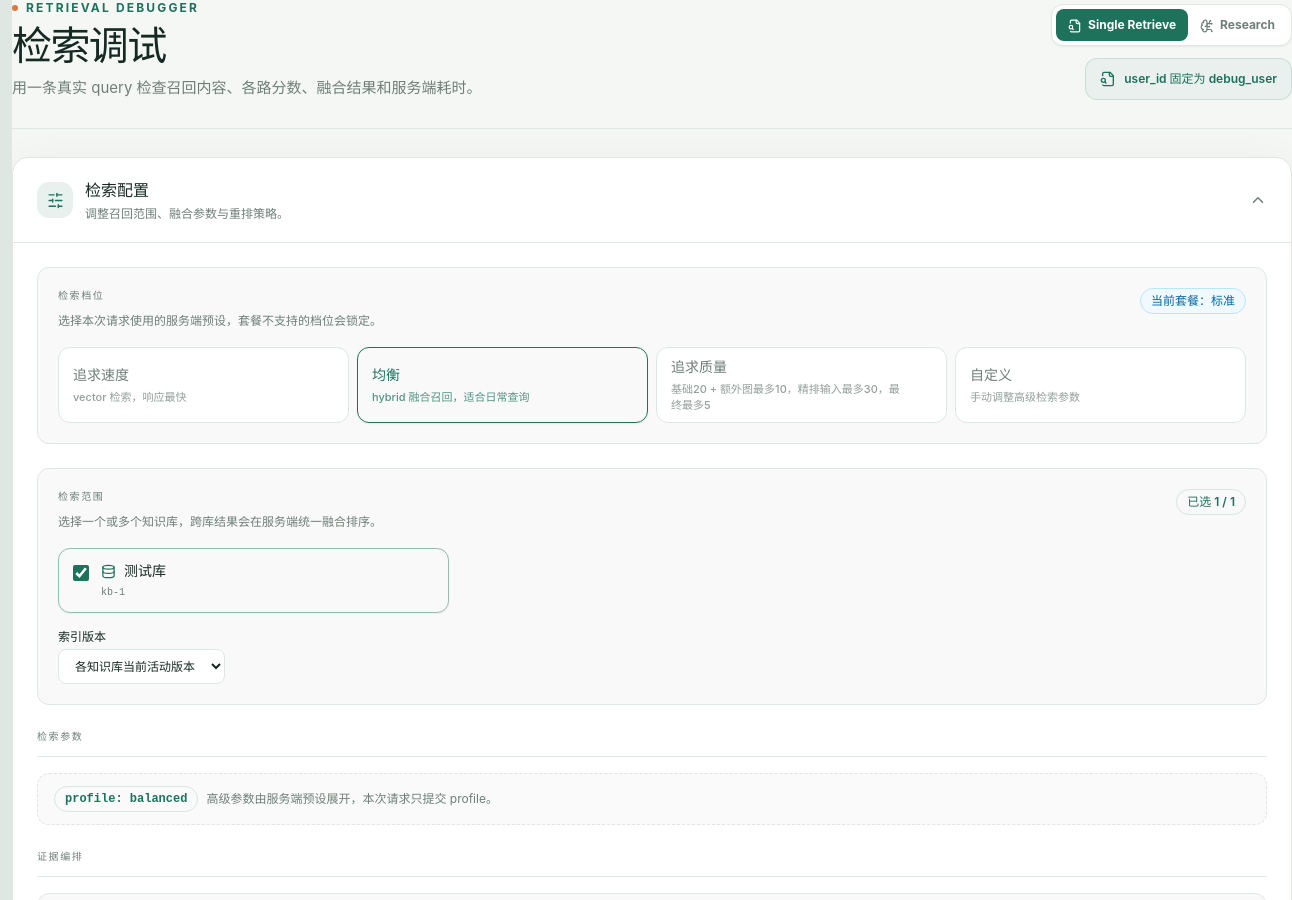
Test case: RetrievePage research mode › blocks Research for a non-Pro plan without invoking the endpoint
The image size is (1292, 900).
Expected: the checkbox named "选择 测试库" is shown, 73,565 -> 89,581
Click the tab "Research" at (1238, 25), box 1188,9 -> 1287,41
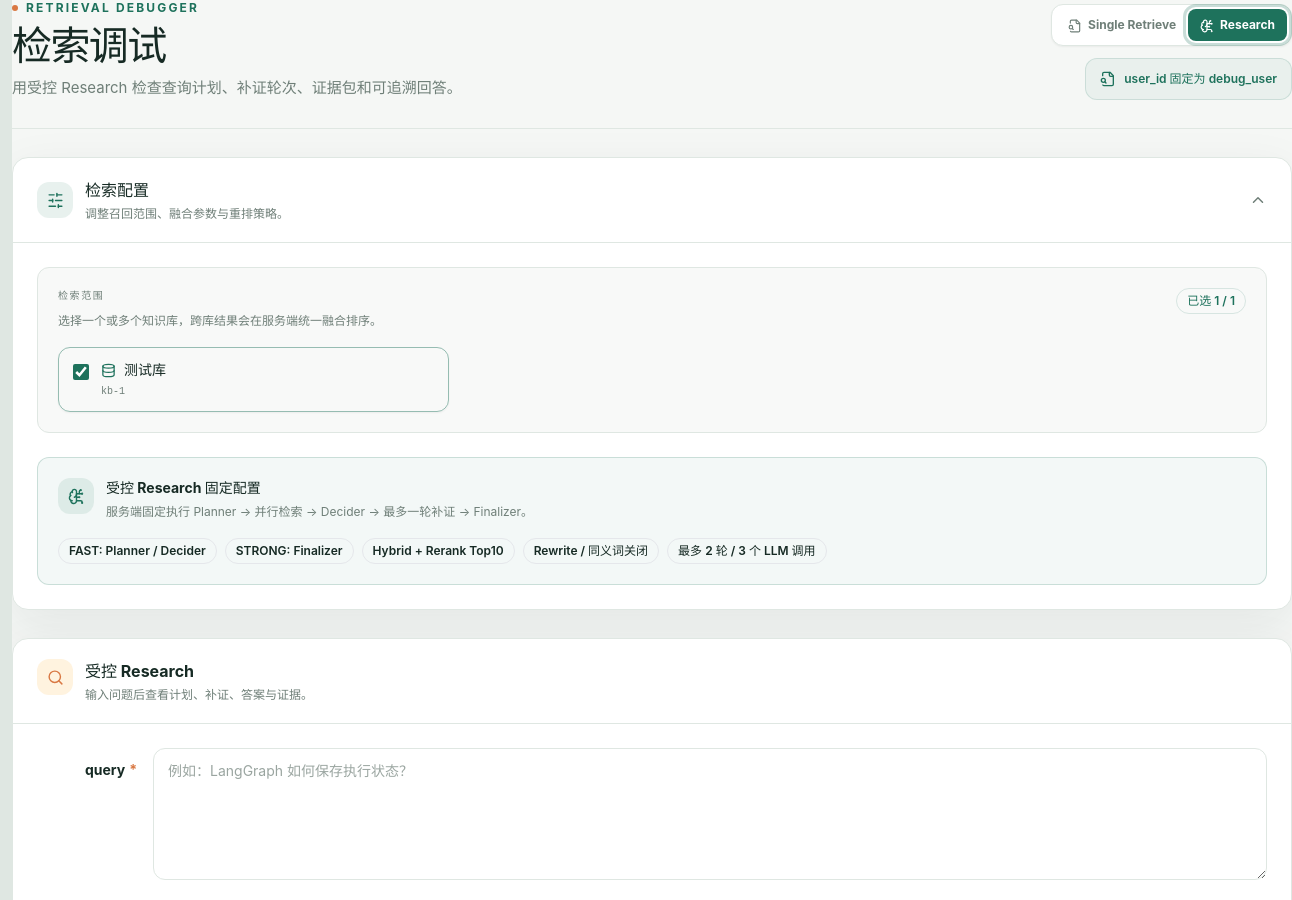
Type "first question" into the text box with placeholder "例如：LangGraph 如何保存执行状态？" at (710, 814), box 153,748 -> 1267,880
(page scrolled)
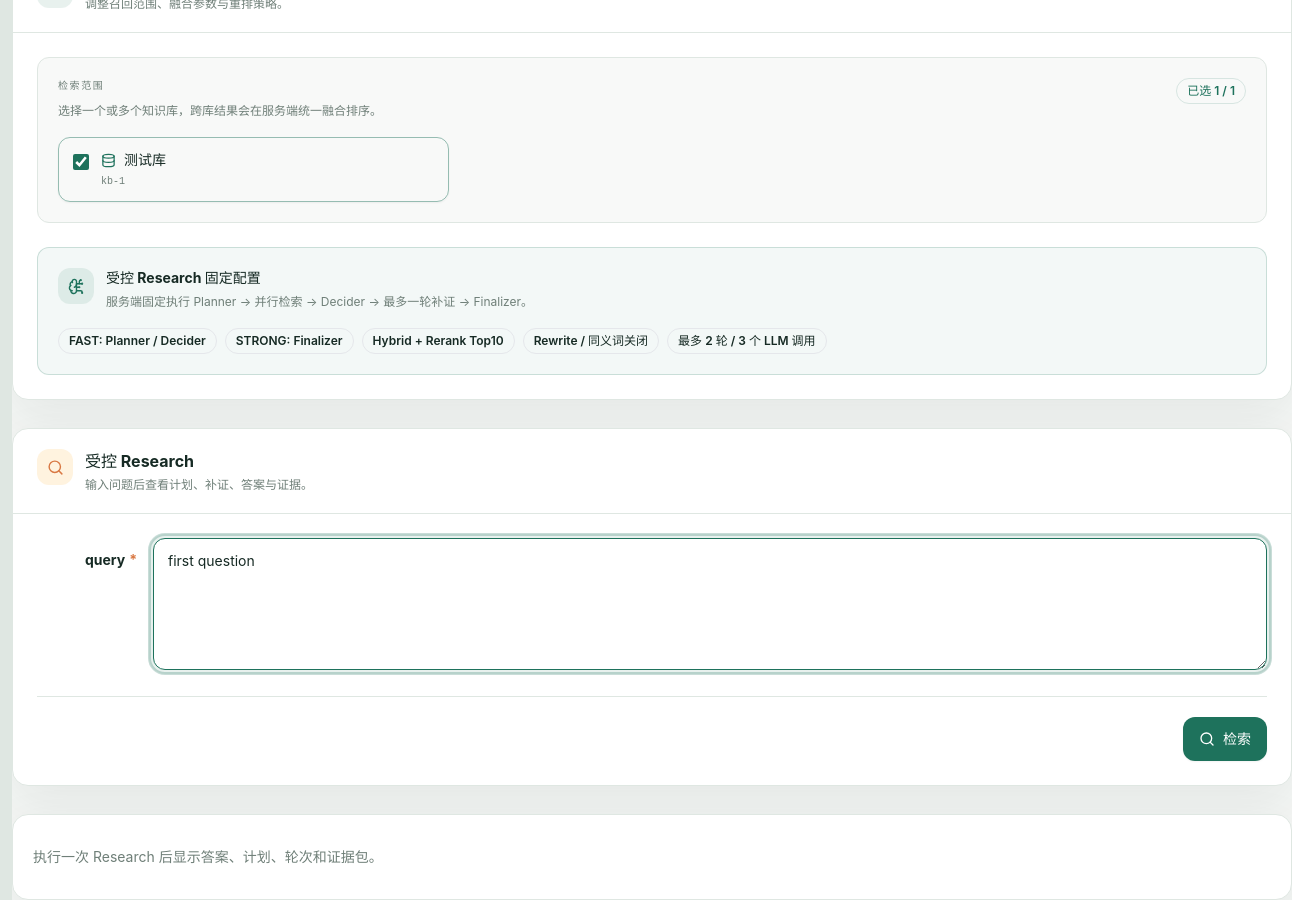
Click the button "检索" at (1225, 739), box 1183,717 -> 1267,761
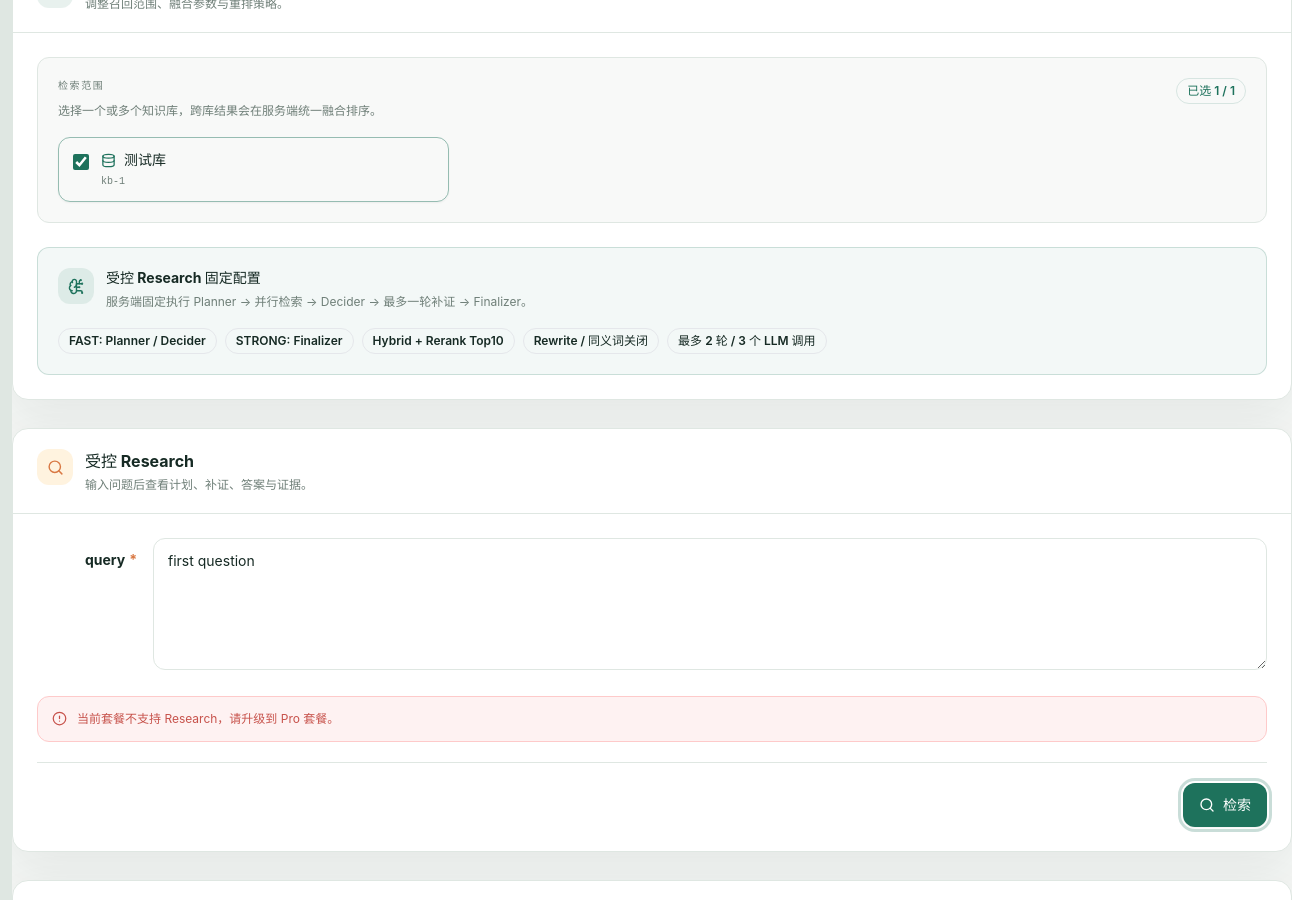
Expected: the text "当前套餐不支持 Research，请升级到 Pro 套餐。" is shown, 77,709 -> 339,729
